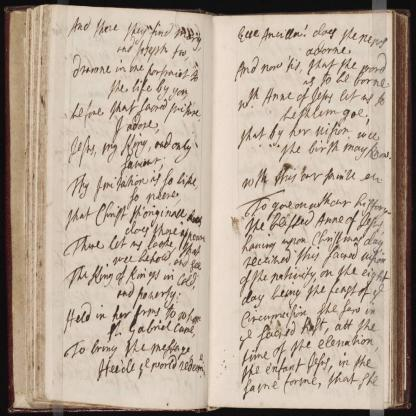book: (26, 2, 408, 403)
